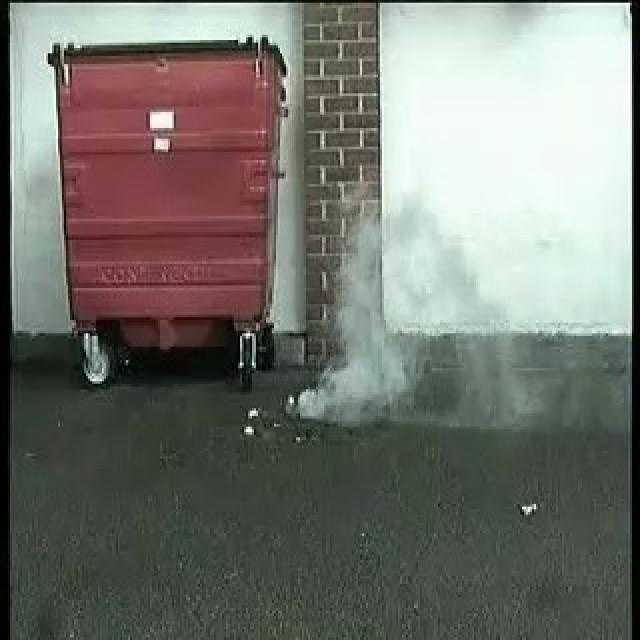smoke: (293, 200, 435, 428)
